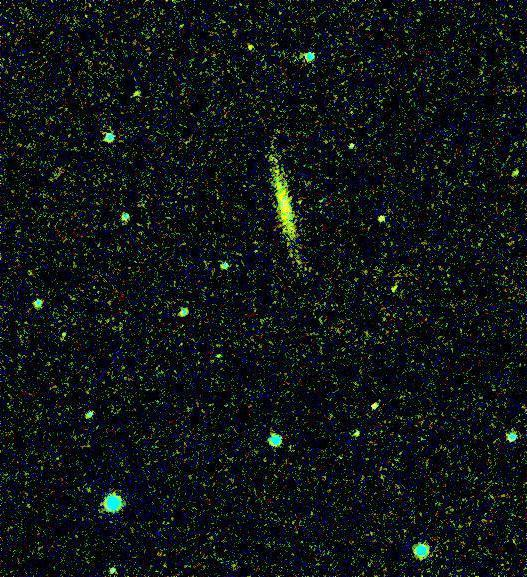star: (122, 79, 152, 109)
